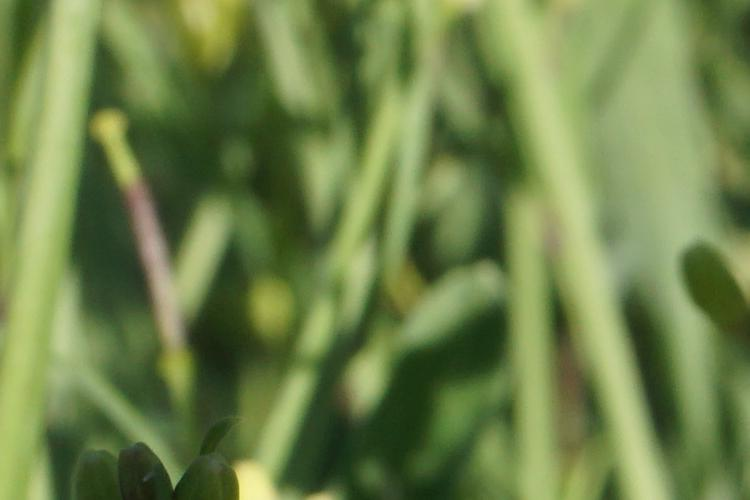pod: (82, 112, 206, 356)
